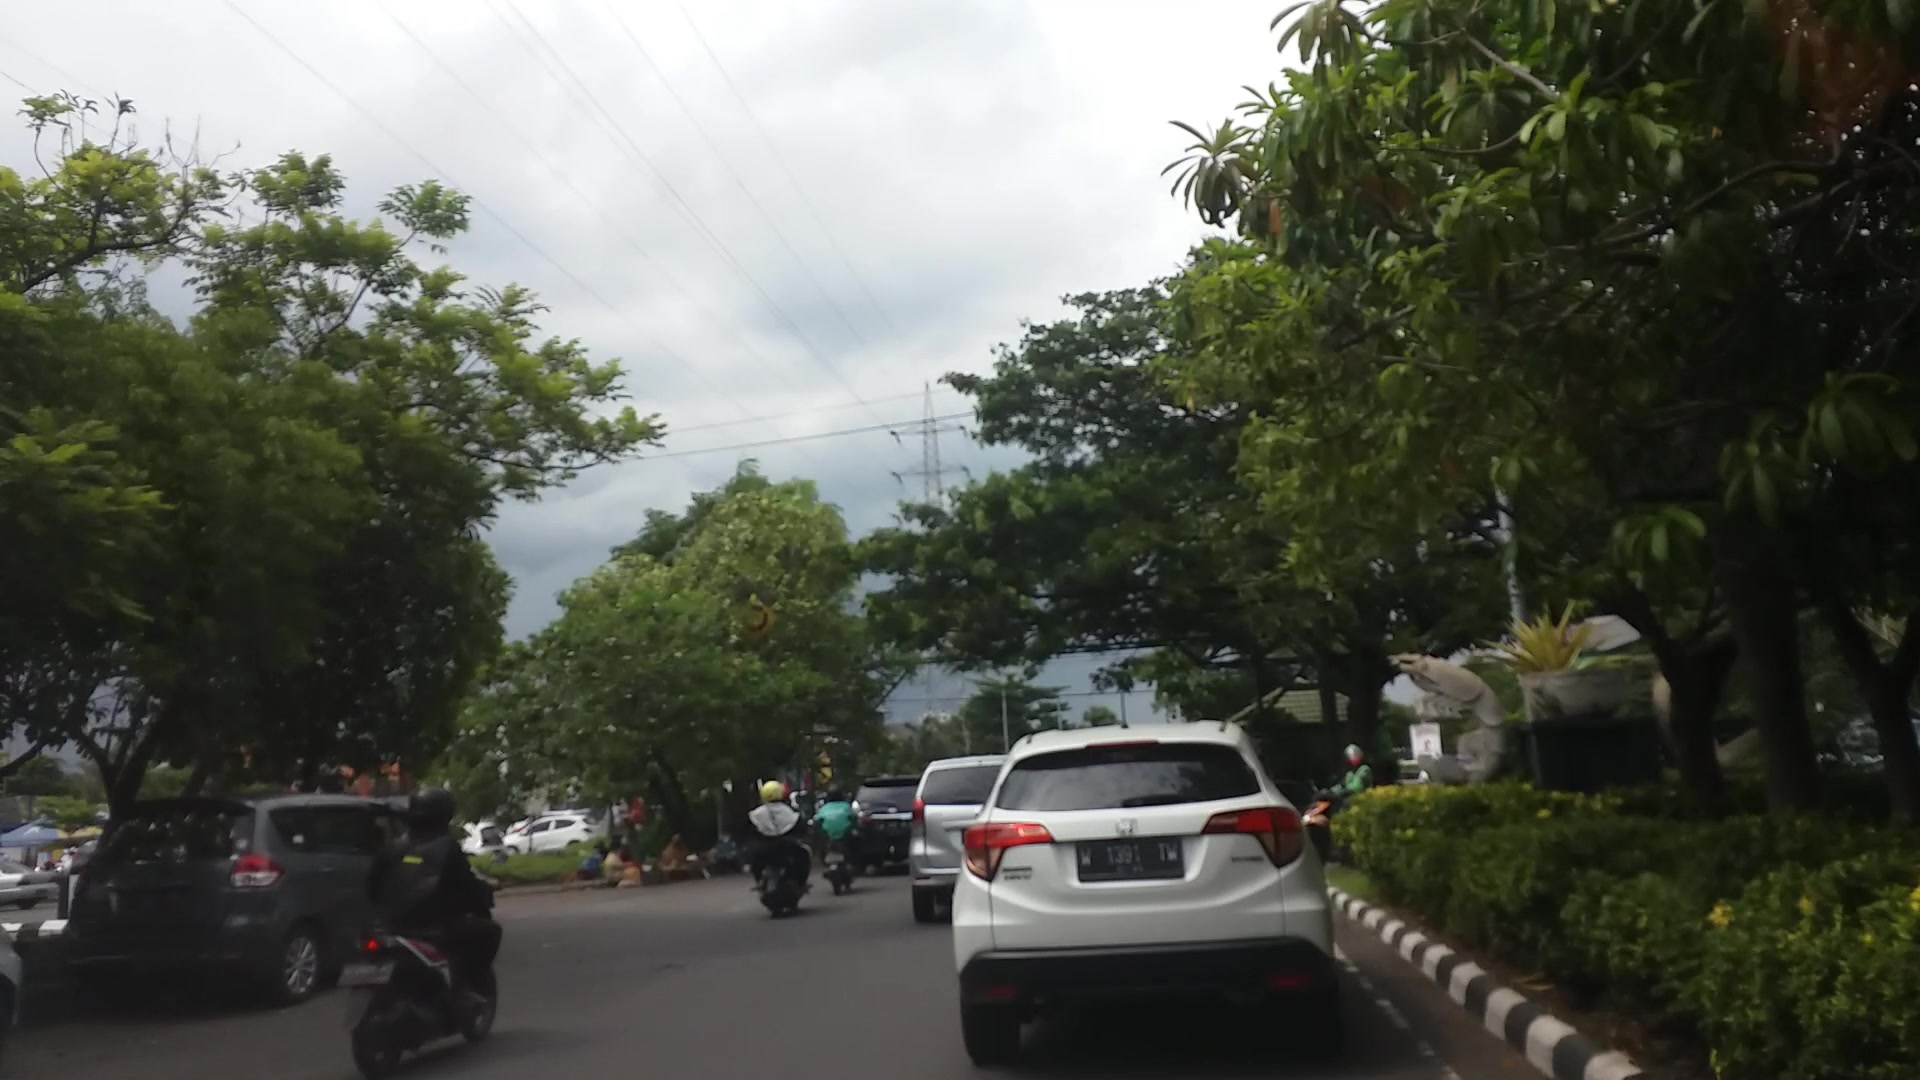plate_positive: (1076, 840, 1184, 878)
